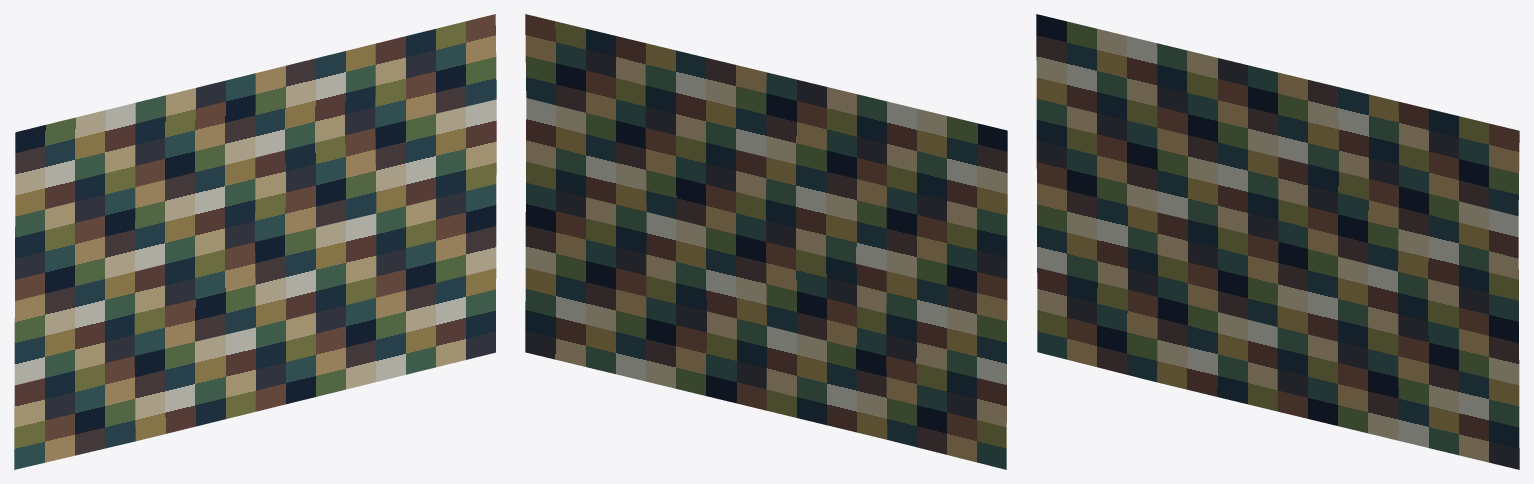
The picture shows the model from 3 angles, left to right: view 1: azimuth 30°, elevation 25°; view 2: azimuth 150°, elevation 25°; view 3: azimuth 330°, elevation 25°; orthographic projection.
Size of the model in its own units: 5775 by 3880 by 24.
1 material, 1 textured.
